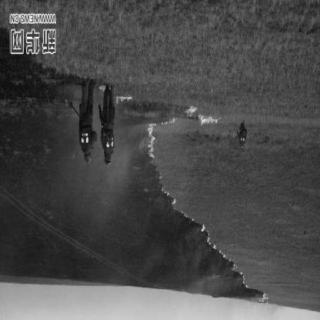Fire: (201, 222, 217, 252), (159, 116, 177, 127)
